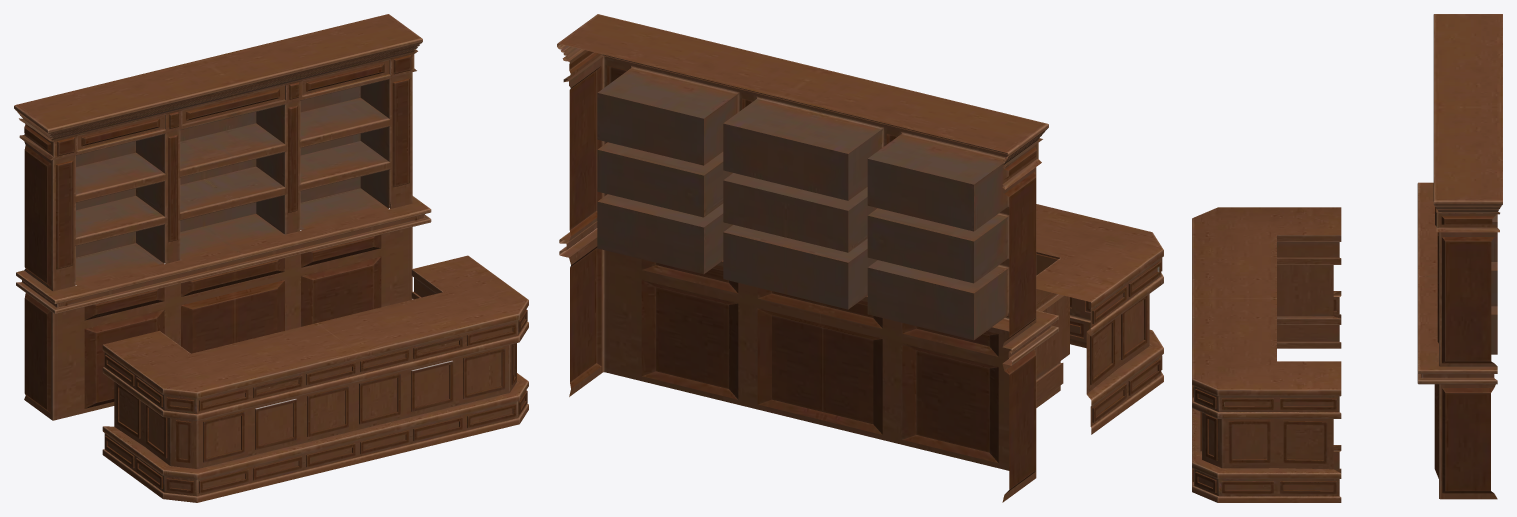
Rendered from bar-set-90s.gltf.
The picture shows the model from 3 angles, left to right: view 1: azimuth 30°, elevation 25°; view 2: azimuth 150°, elevation 25°; view 3: azimuth 270°, elevation 25°; orthographic projection. The views are drawn at different scales.
Visible parts, largest first — view 1: bar; view 2: bar; view 3: bar.
Boxes of the visible parts, x1,y1,x2,y2 form: bar: (14,14,528,502); bar: (557,14,1163,502); bar: (1192,14,1502,502).
Size of the model in its own units: 2.94 by 2.2 by 2.05.
Materials: 1 (1 with a texture image).
